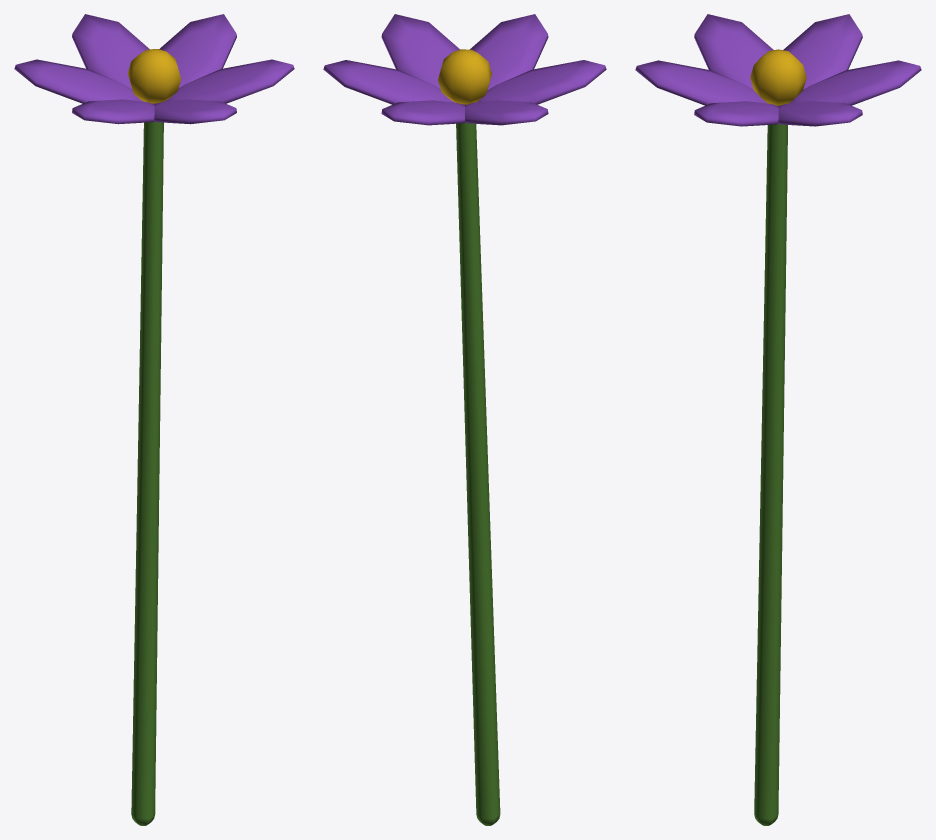
Rendered from FlowerPurple.glb.
The picture shows the model from 3 angles, left to right: view 1: azimuth 30°, elevation 25°; view 2: azimuth 150°, elevation 25°; view 3: azimuth 270°, elevation 25°; orthographic projection. The views are drawn at different scales.
Parts seen in each view (by area): view 1: Petals, Stem, Center; view 2: Petals, Stem, Center; view 3: Petals, Stem, Center.
Boxes of the visible parts, x1,y1,x2,y2 form: Petals: (14,14,294,124); Stem: (131,121,163,825); Center: (127,49,181,103); Petals: (323,14,606,125); Stem: (456,123,500,825); Center: (438,49,491,104); Petals: (635,14,921,126); Stem: (754,124,787,825); Center: (750,49,806,105).
Bounding box in the file's own units: 0.0612 × 0.213 × 0.0707.
